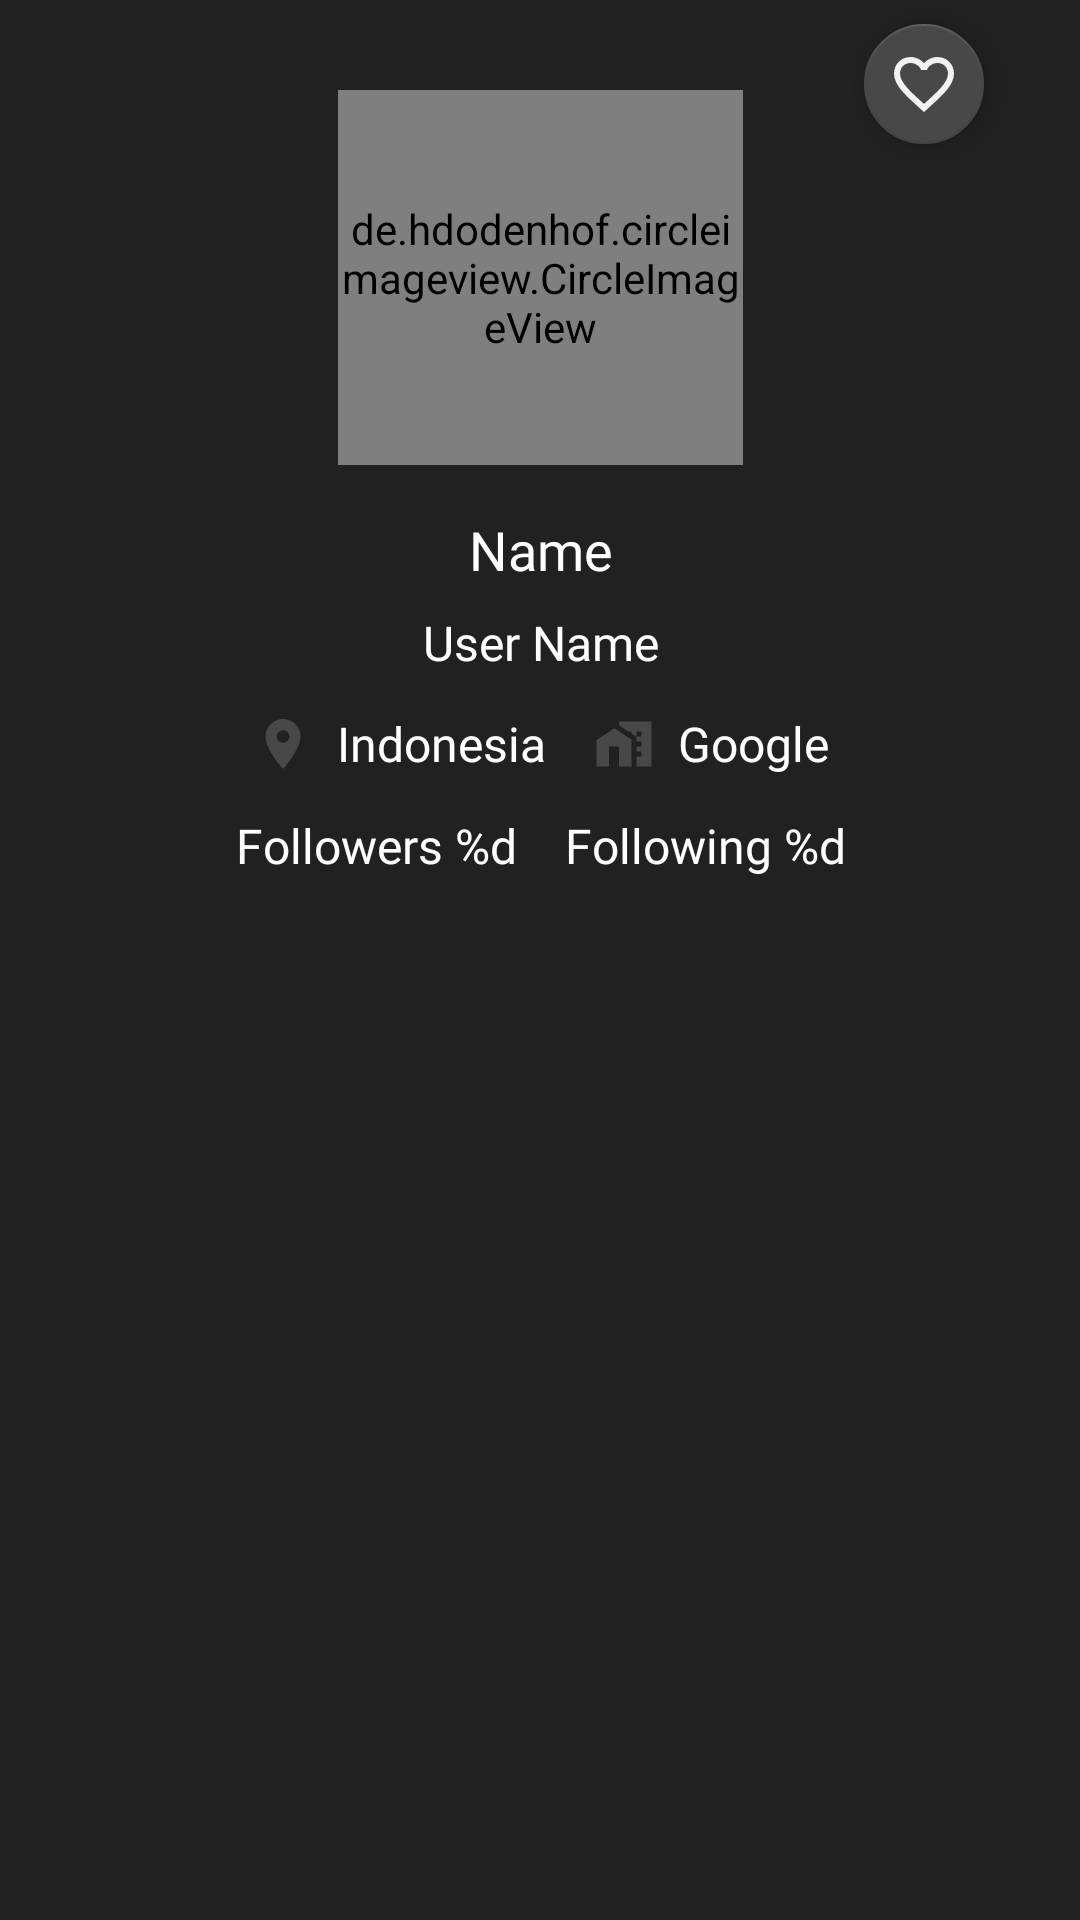

Point at icon controls on the screen. Image size 1080 × 1920, points as point (x, y).
favorite border: point (924, 84)
home work: point (624, 744)
location on: point (283, 743)
